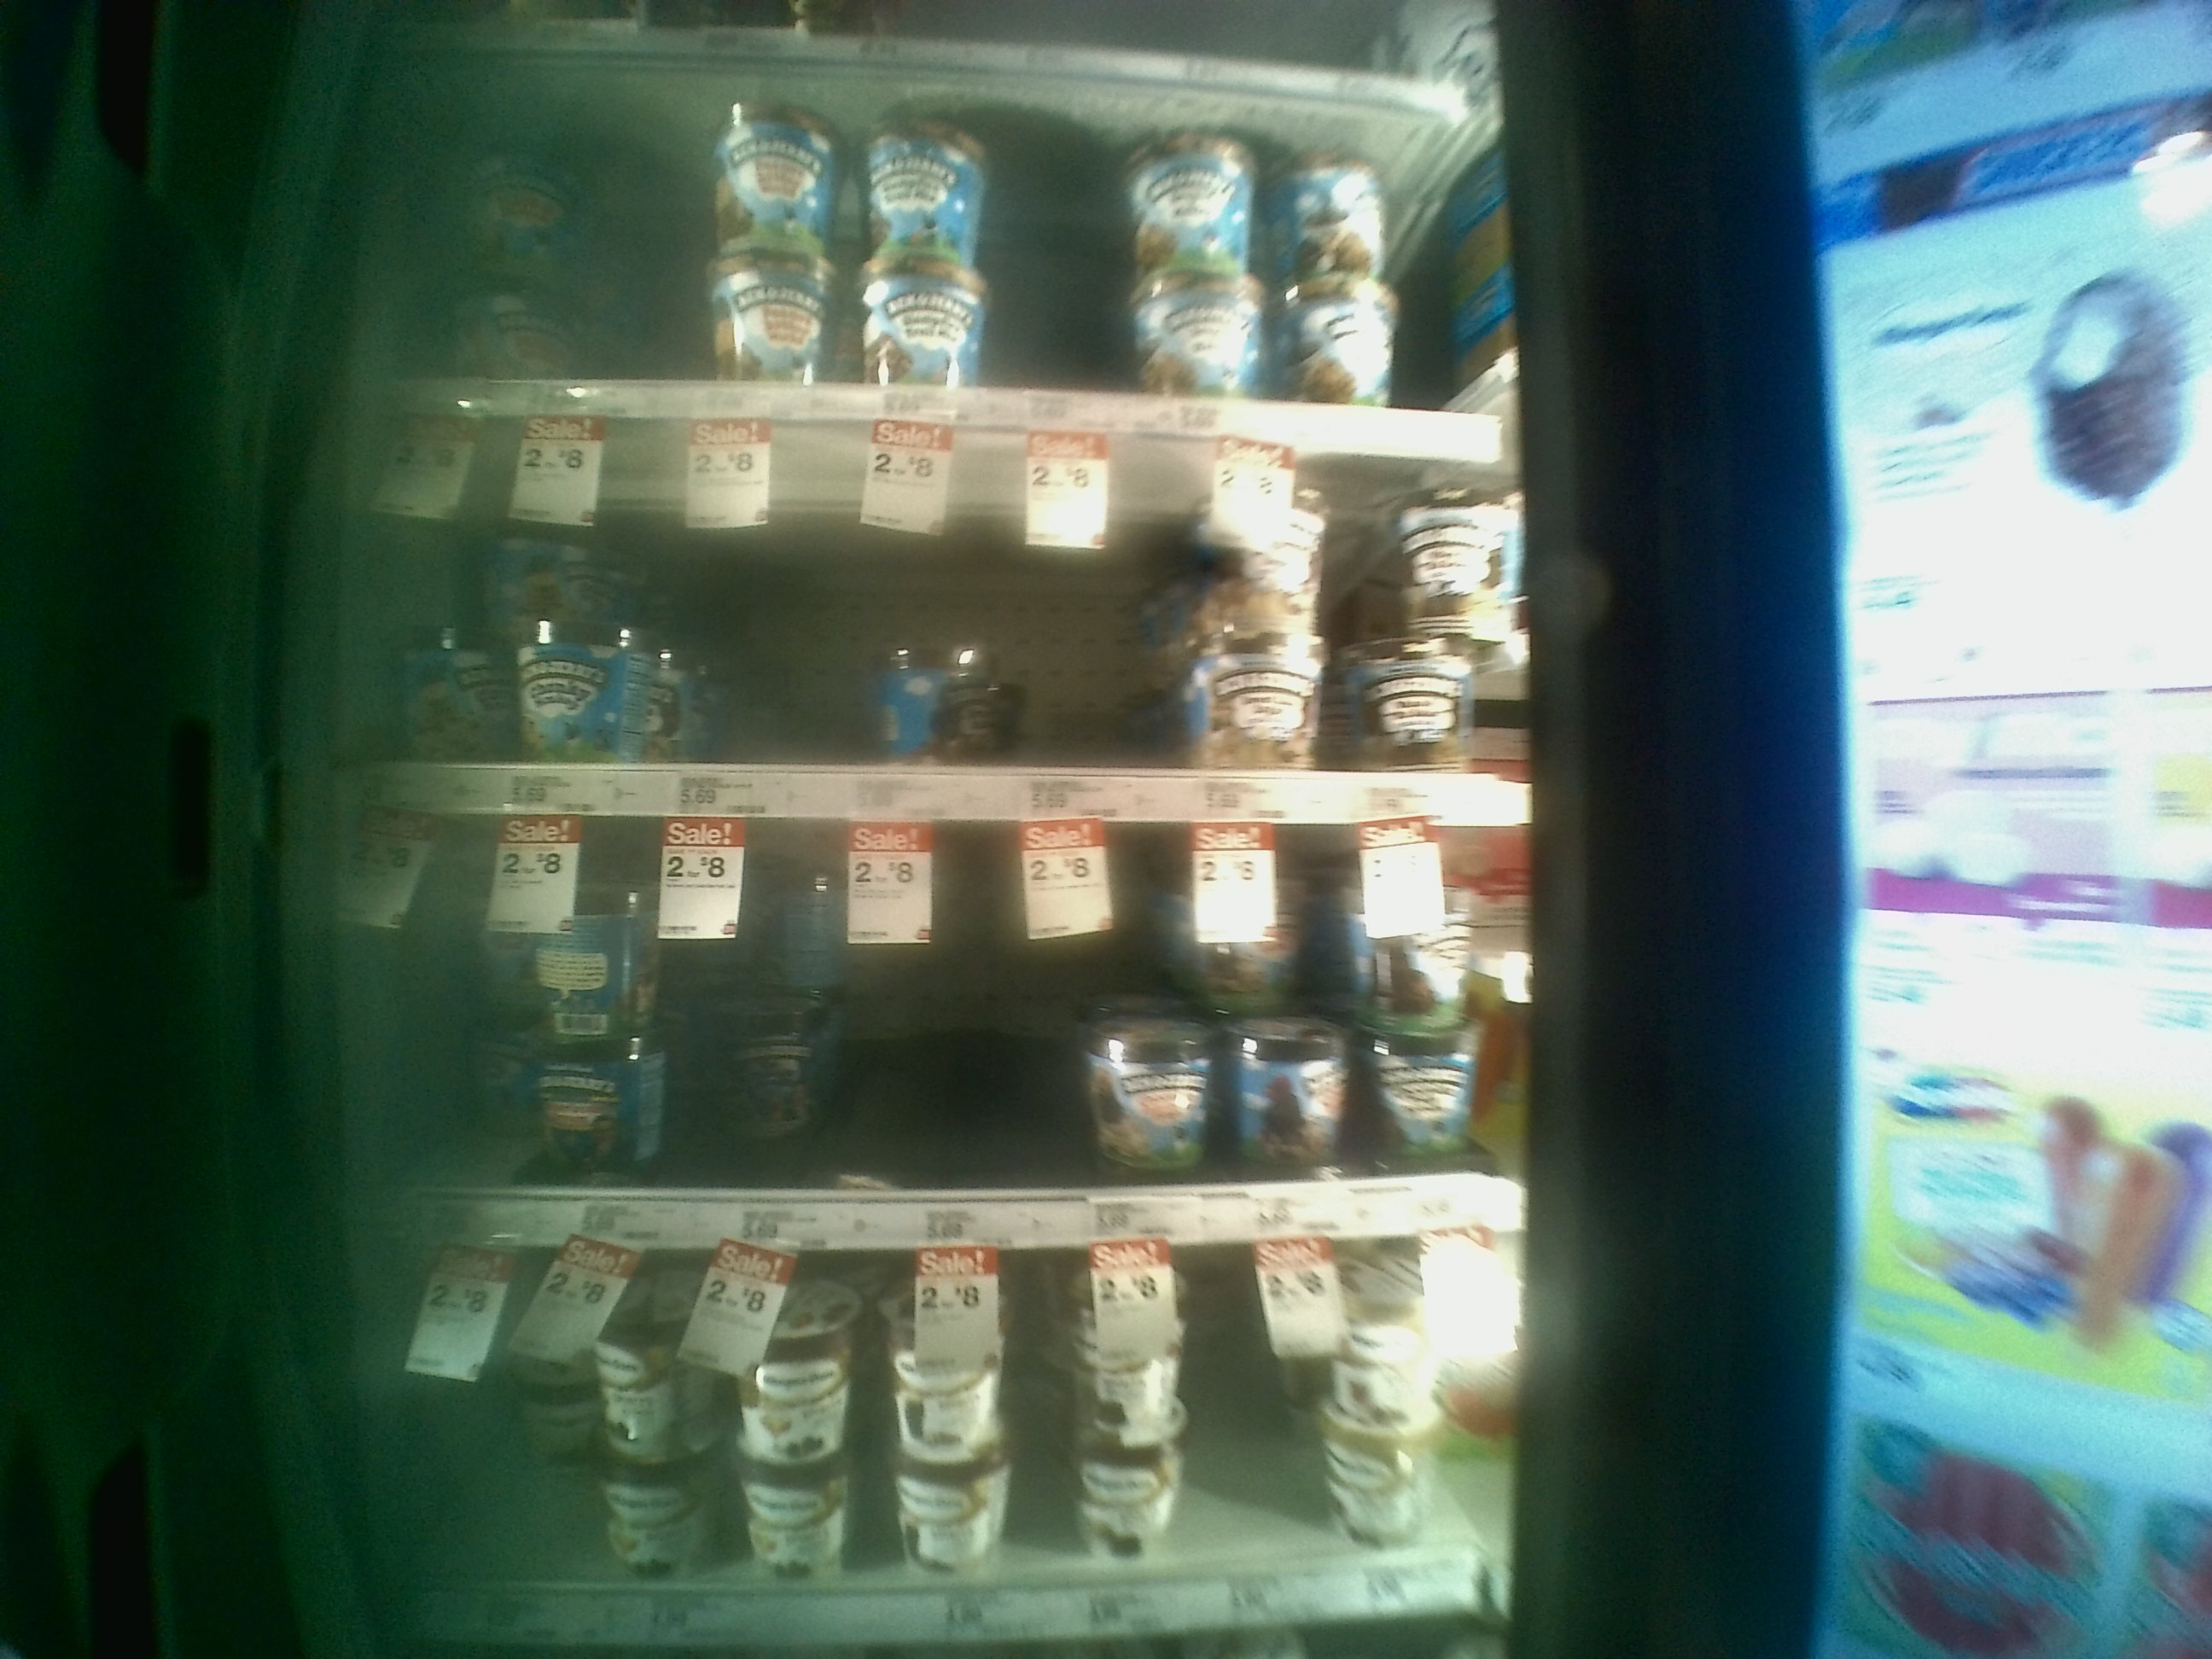shelf: (343, 817, 1538, 1251), (348, 44, 1519, 448), (341, 1251, 1526, 1650), (347, 441, 1543, 819)
